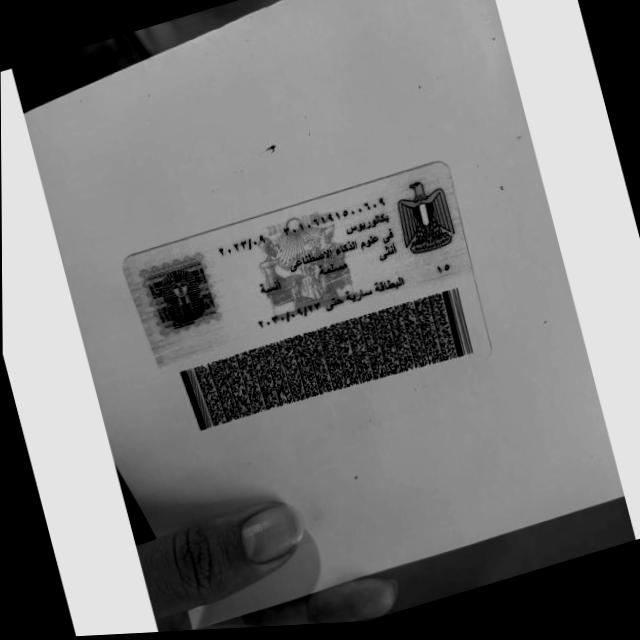back: (123, 161, 488, 429)
